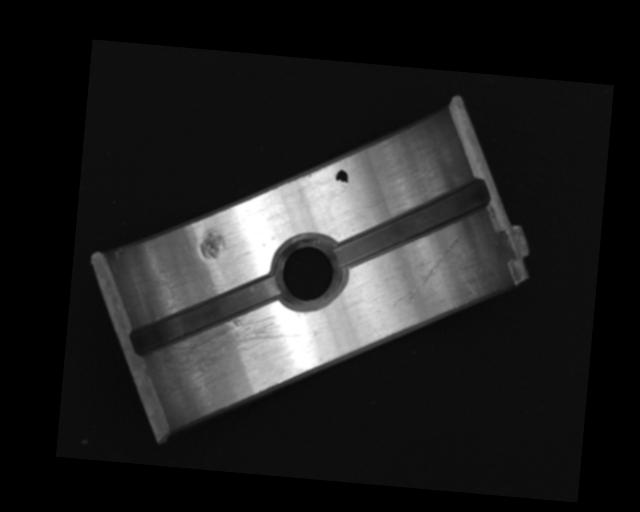blot: (334, 168, 349, 185)
bruise: (198, 229, 227, 261)
gap: (335, 167, 492, 279), (128, 266, 281, 368)
hole: (270, 231, 347, 315)
nick: (391, 228, 464, 314)
scratch: (149, 303, 303, 413)
